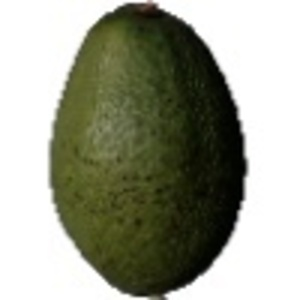abacate: (45, 2, 249, 293)
